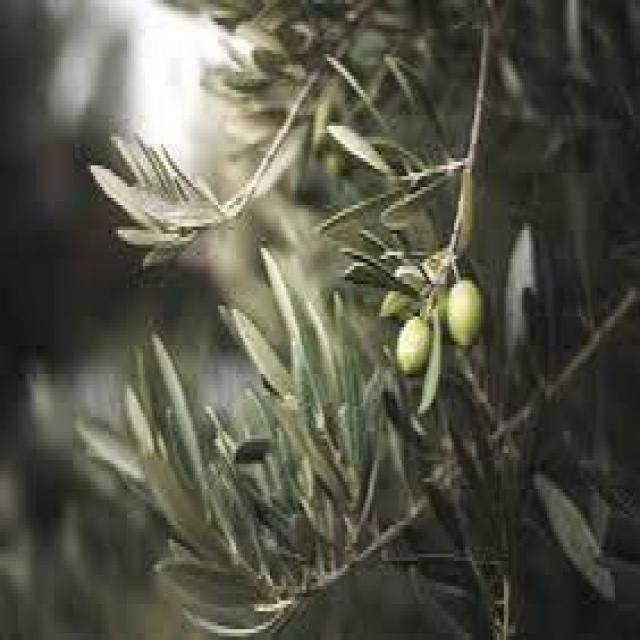Healthy: (446, 277, 483, 345), (393, 316, 432, 372)
